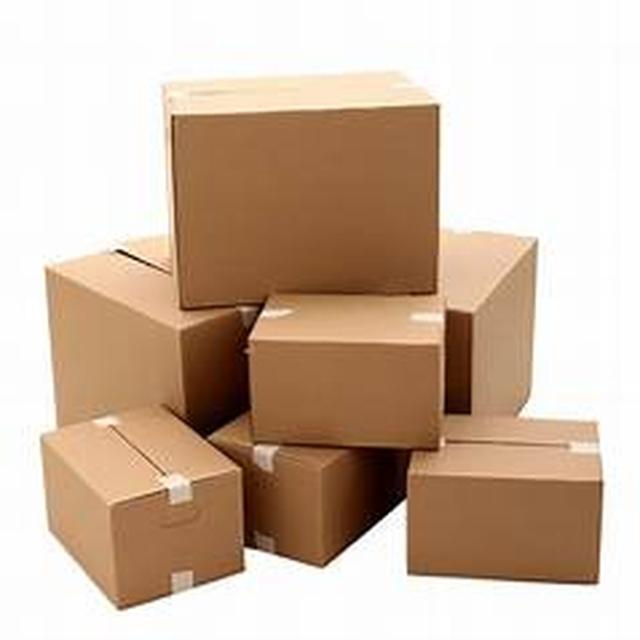box: (148, 77, 441, 290), (200, 380, 444, 580), (230, 276, 480, 470), (58, 401, 258, 620), (413, 188, 597, 413), (40, 240, 246, 420), (433, 431, 613, 604)
